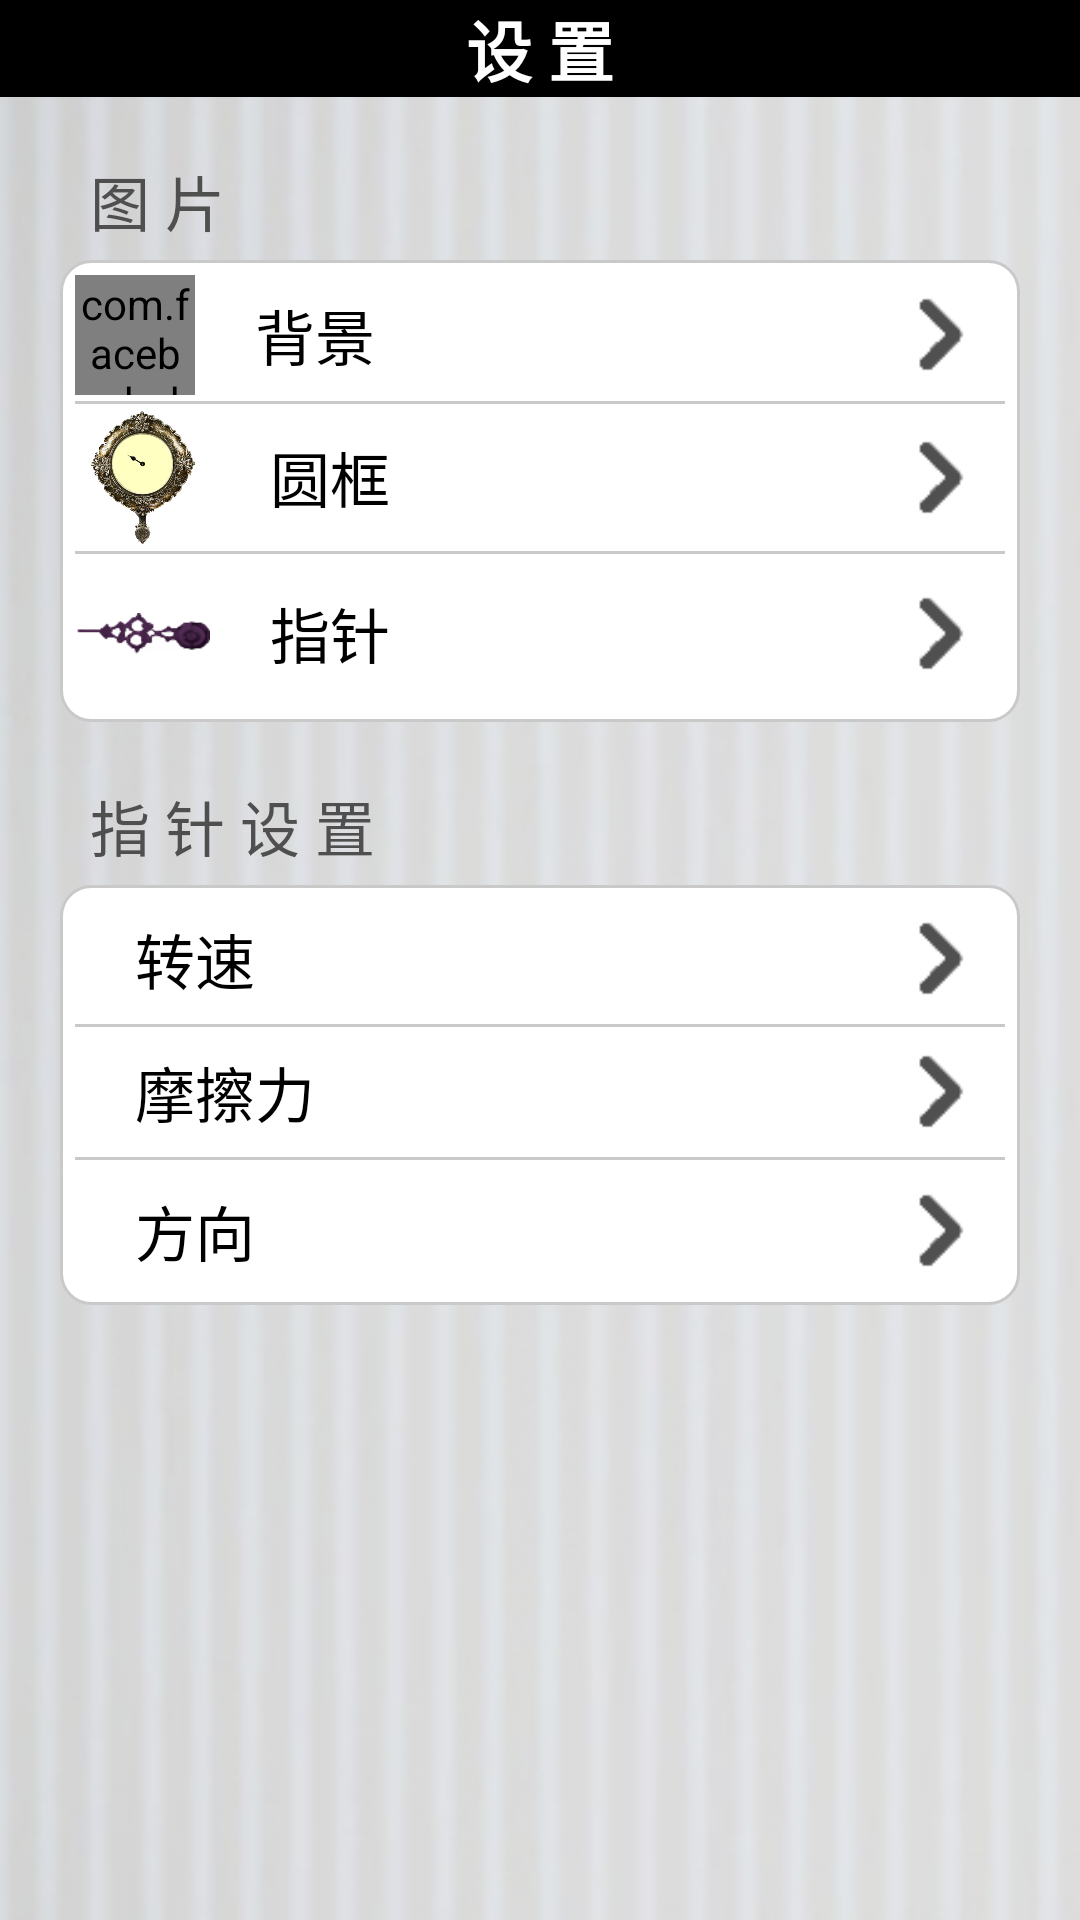

Screen size 1080x1920. Icon name, then its center in pixels as (x,y):
arrow right: (941,334), (941,477), (941,633), (941,958), (941,1091), (941,1230)
pointer: (143,633)
